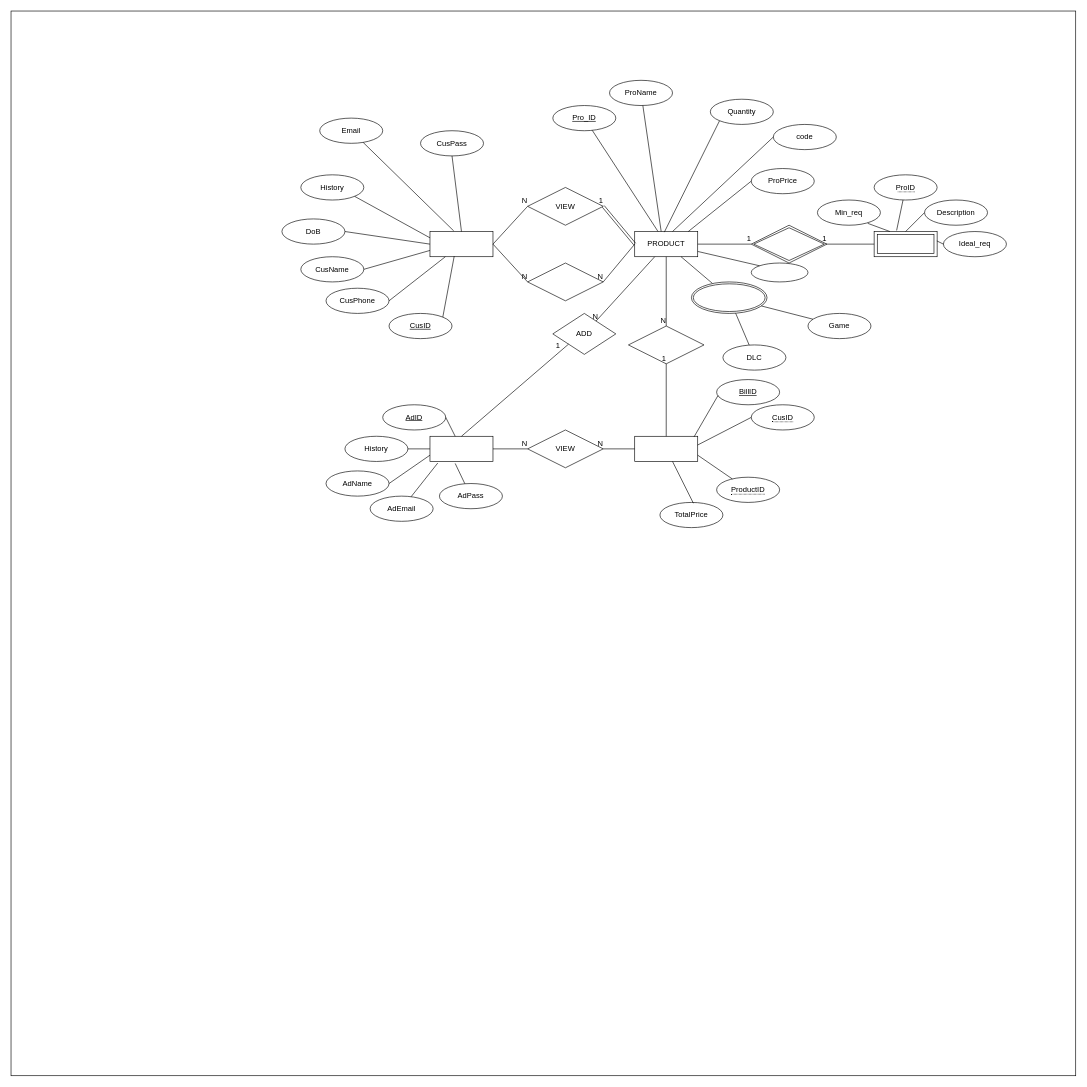
The diagram is 1087 pixels wide and 1087 high, and some of its shapes have lost their labels. Each missing label, with the centre of its shape:
ADD TO CART: the point at 565,281
ADMIN: the point at 461,448
BILLING: the point at 666,448
CHECK OUT: the point at 666,344
CUSTOMER: the point at 461,244
DES: the point at 905,244
DISPLAY: the point at 789,244
Genre: the point at 779,272
Product_Type: the point at 729,297
